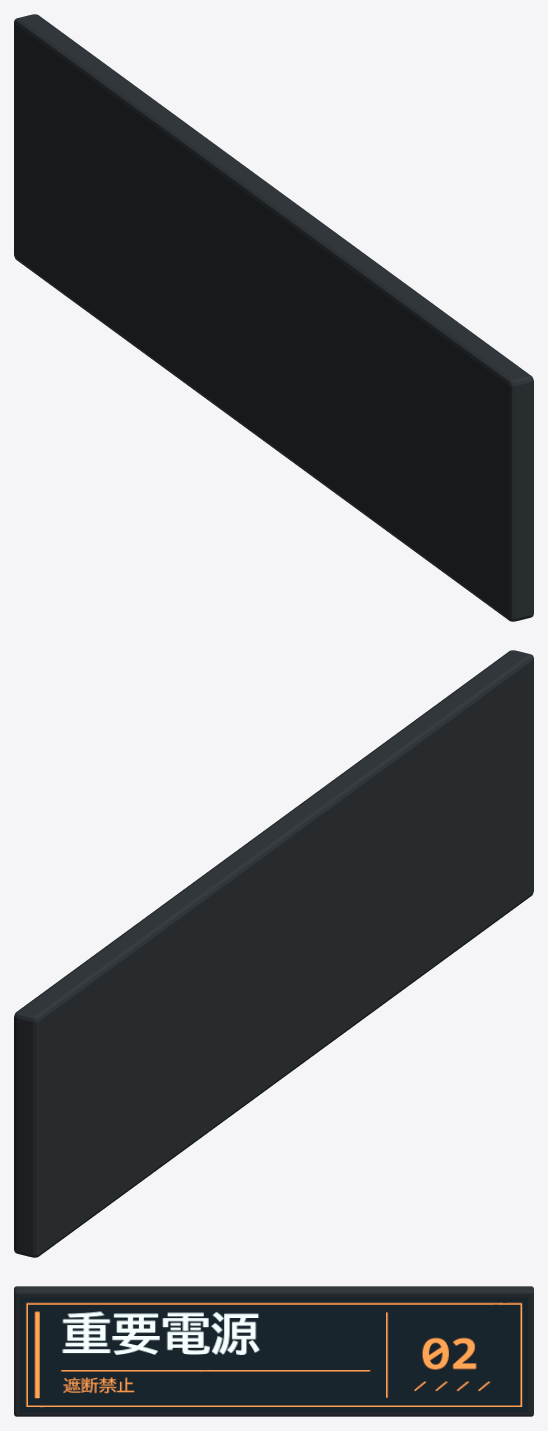
The model's file is critical-power-02.glb.
The picture shows the model from 3 angles, top to bottom: view 1: azimuth 30°, elevation 25°; view 2: azimuth 150°, elevation 25°; view 3: azimuth 270°, elevation 25°; orthographic projection. The views are drawn at different scales.
Visible parts, largest first — view 1: Critical power sign | graphite housing; view 2: Critical power sign | graphite housing; view 3: Critical power sign | label face, Critical power sign | graphite housing.
Boxes of the visible parts, x1,y1,x2,y2 form: Critical power sign | graphite housing: (14, 14, 533, 621); Critical power sign | graphite housing: (14, 650, 533, 1257); Critical power sign | label face: (20, 1297, 527, 1412); Critical power sign | graphite housing: (14, 1286, 533, 1416).
Bounding box in the file's own units: 0.031 × 0.279 × 1.04.
2 materials, 1 textured.
